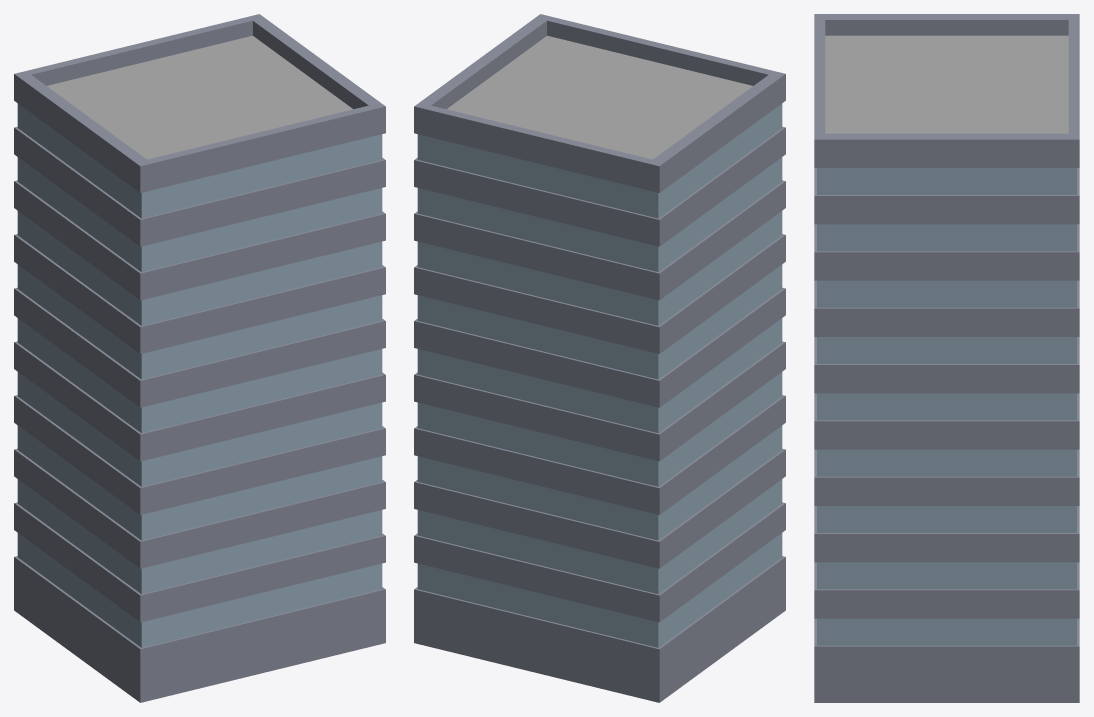
File: Building 2.fbx
The picture shows the model from 3 angles, left to right: view 1: azimuth 30°, elevation 25°; view 2: azimuth 150°, elevation 25°; view 3: azimuth 270°, elevation 25°; orthographic projection. The views are drawn at different scales.
Parts seen in each view (by area): view 1: pCube5; view 2: pCube5; view 3: pCube5.
Part boxes in pixels (bbox=[...]): pCube5: bbox=[14, 14, 385, 702]; pCube5: bbox=[414, 14, 785, 702]; pCube5: bbox=[814, 14, 1079, 702].
Bounding box in the file's own units: 7.68 × 16.05 × 6.85.
